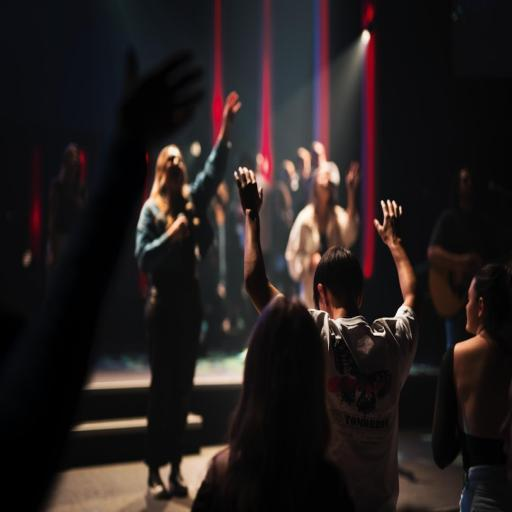face: (501, 382, 511, 483), (165, 146, 184, 195), (466, 278, 480, 334), (316, 172, 333, 202), (459, 169, 473, 199)
